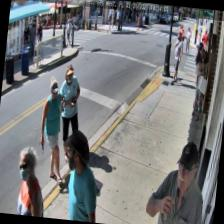person: (143, 137, 210, 224), (56, 128, 104, 222), (35, 76, 73, 182), (52, 63, 88, 173), (13, 145, 51, 217)
